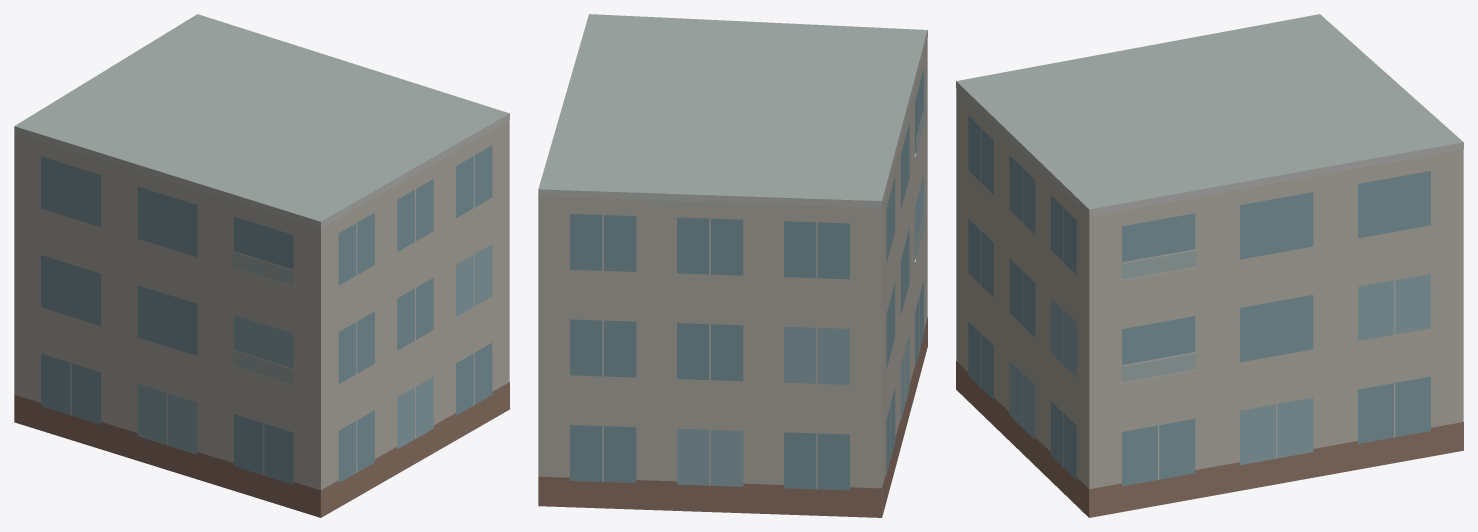
File: survey-upis-32598929.glb
3 views of the same model, side by side, from view 1: azimuth 30°, elevation 25°; view 2: azimuth 150°, elevation 25°; view 3: azimuth 270°, elevation 25° (orthographic). The views are drawn at different scales.
Visible parts, largest first — view 1: survey-upis-32598929.tmp; view 2: survey-upis-32598929.tmp; view 3: survey-upis-32598929.tmp.
Part boxes in pixels (box(x1,y1,x2,y2)): survey-upis-32598929.tmp: box(14, 14, 509, 517); survey-upis-32598929.tmp: box(538, 14, 927, 517); survey-upis-32598929.tmp: box(956, 14, 1463, 517).
Bounding box in the file's own units: 14.42 × 10.6 × 15.82.
